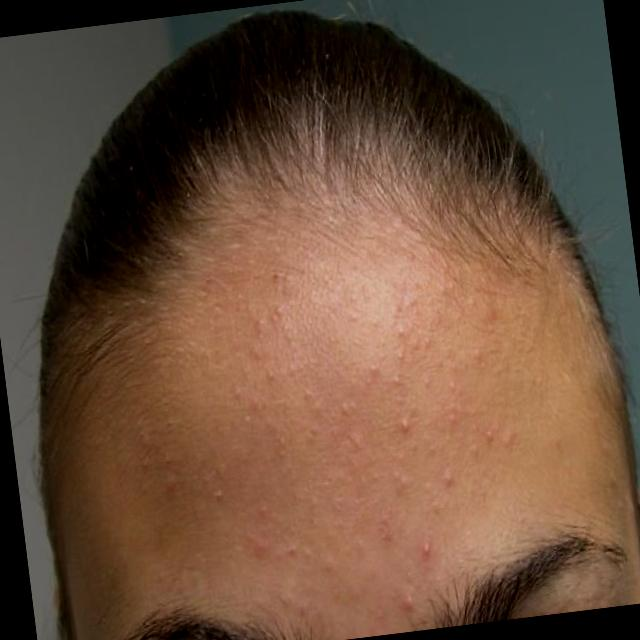fungal: (123, 238, 533, 640)
